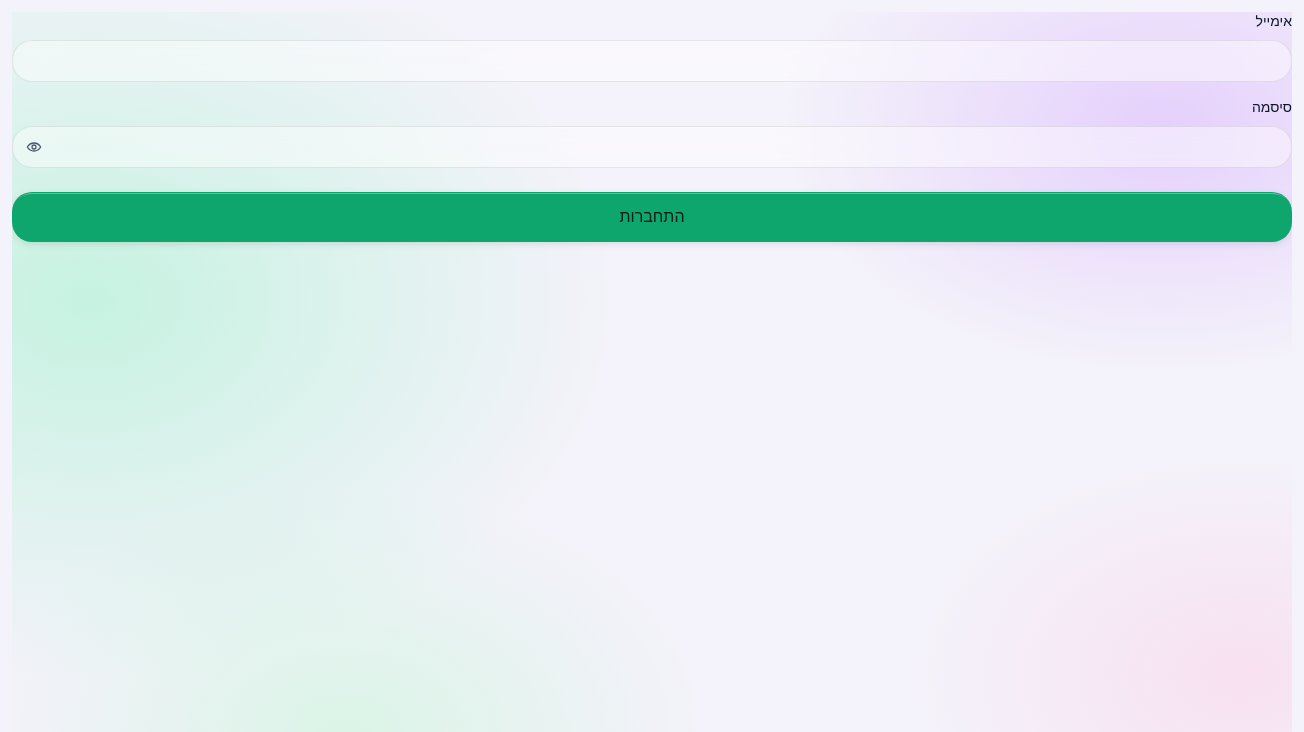
Scenario: SignInForm › shows the Hebrew message for a bad-credentials envelope
Type "t@example.com" into the field labelled "אימייל". click: (652, 61)
box: [12,40,1292,82]
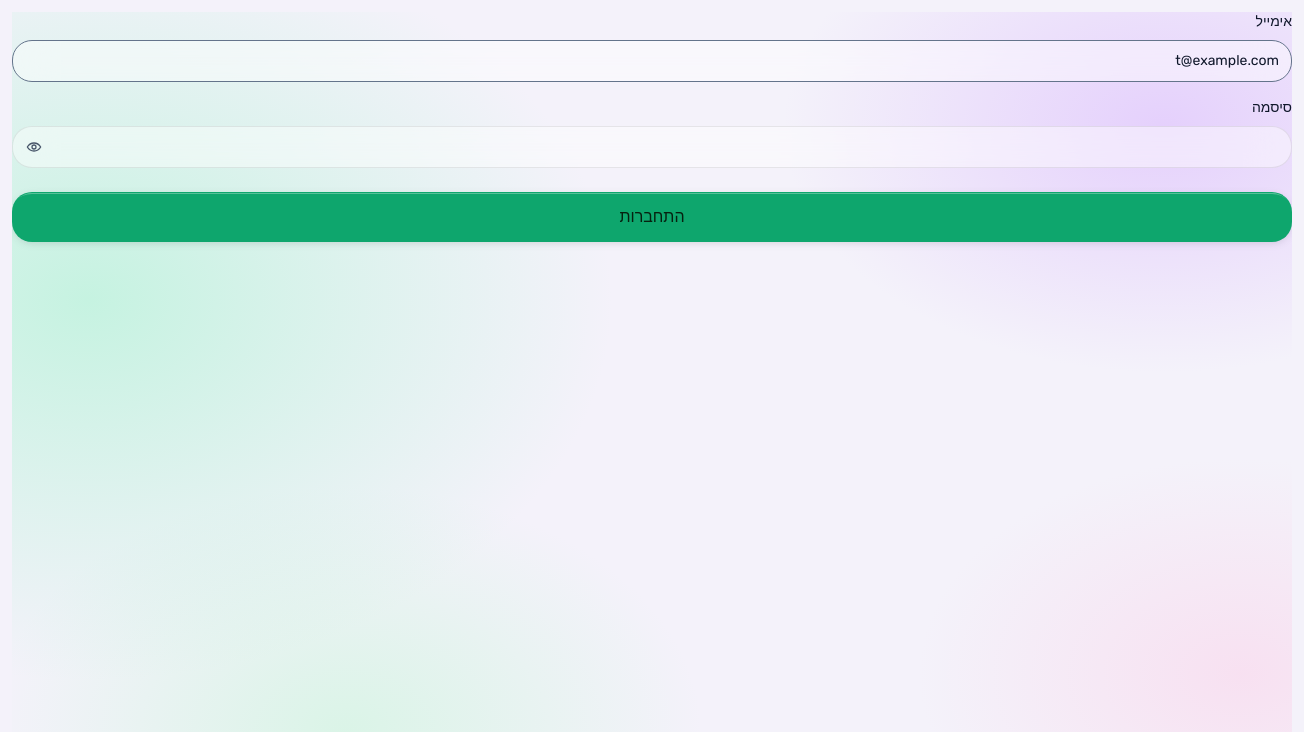
Type "bad" into the password field labelled "סיסמה". click: (652, 147)
box: [12,126,1292,168]
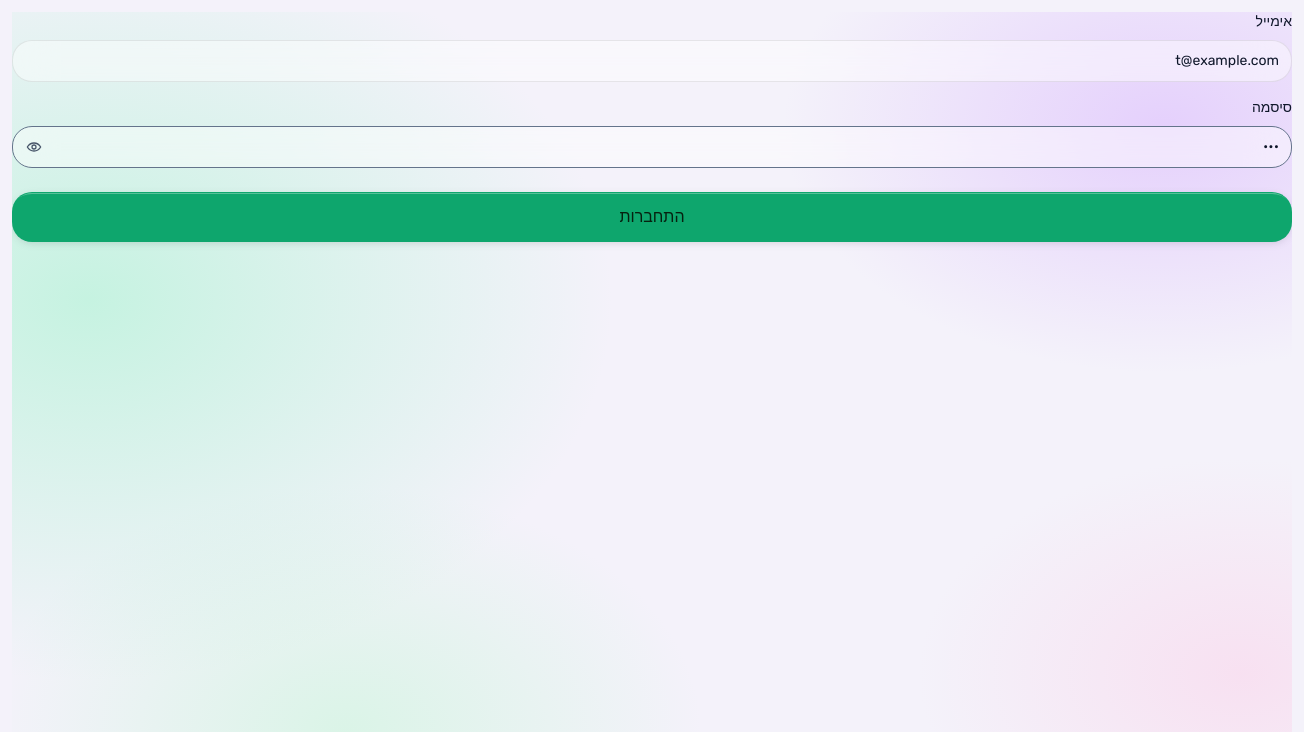
Click the button "התחברות". click: (652, 217)
box: [12,192,1292,242]
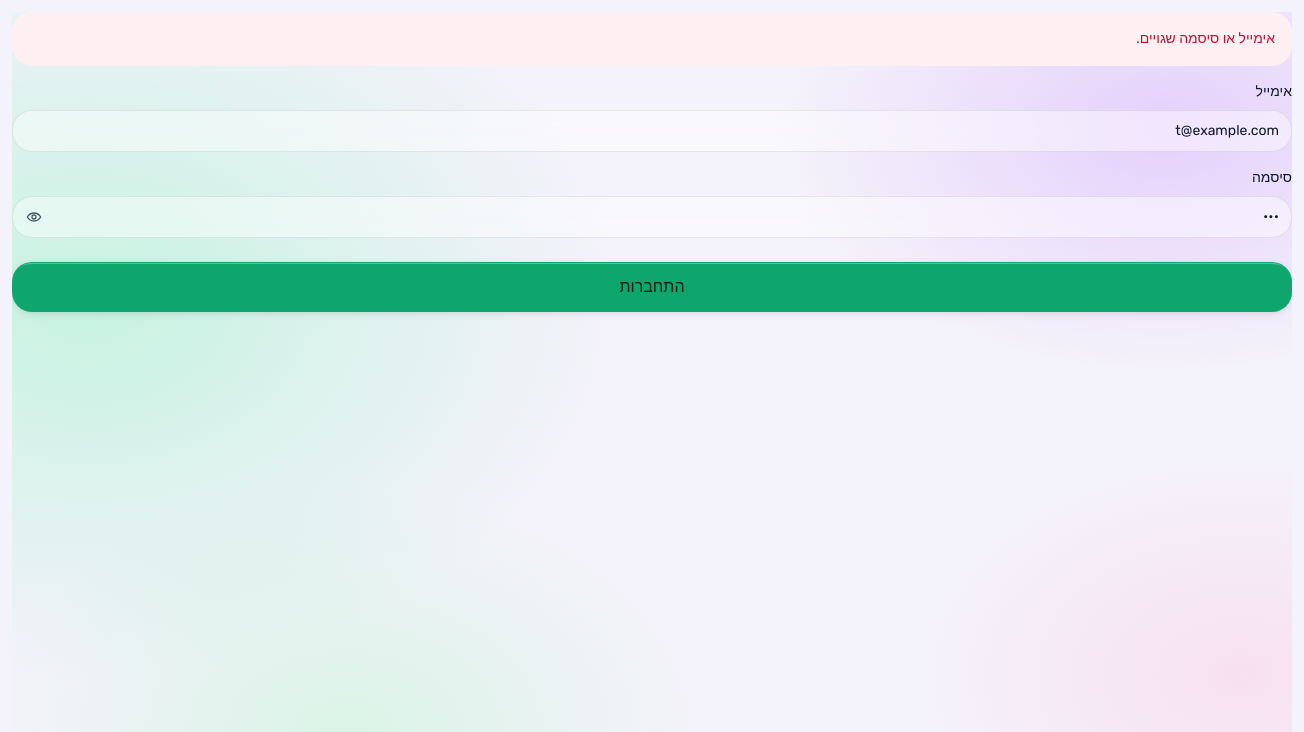
Check: the message shows "שגוי", box [1136,30,1275,47]
